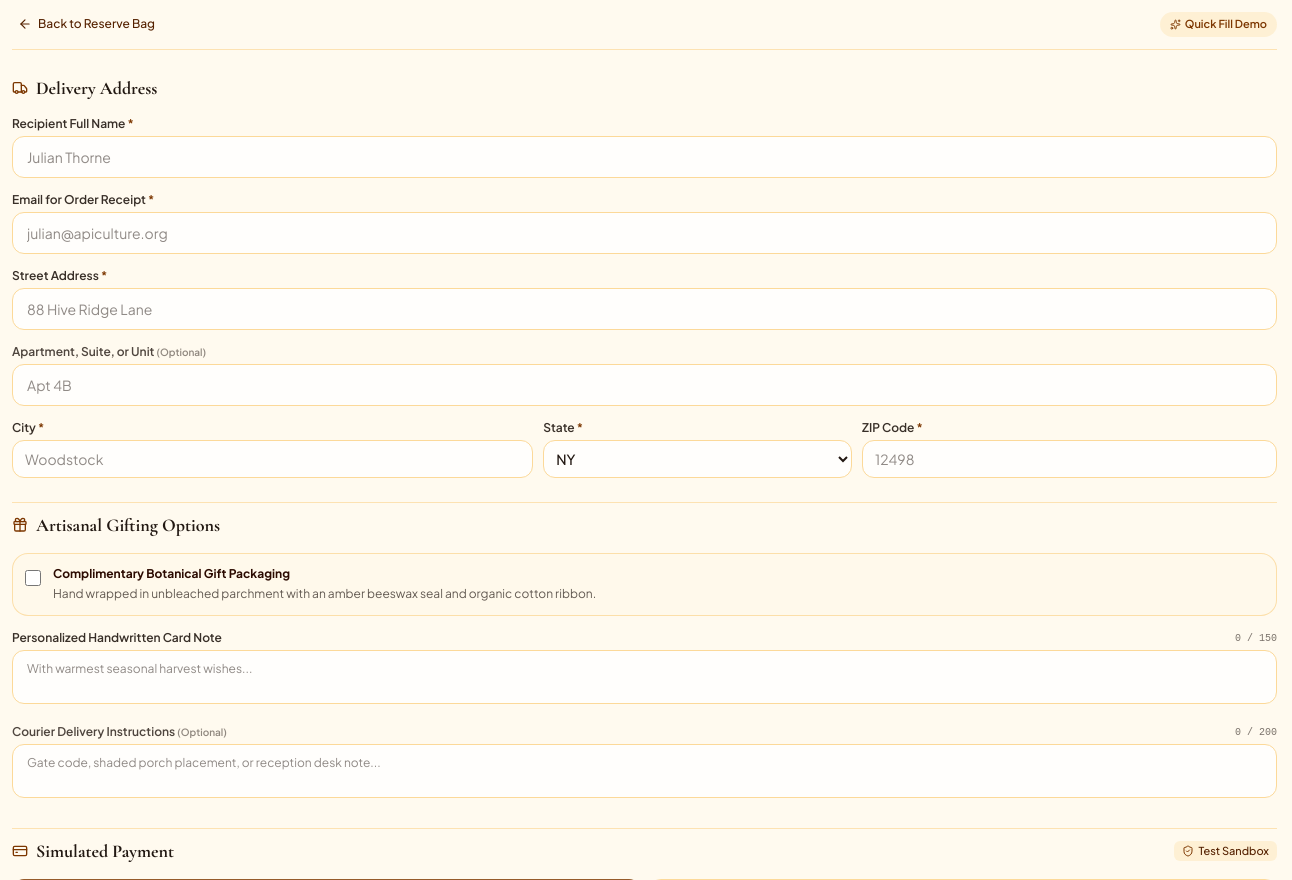
Test: CheckoutForm Component (satisfies AC-4, AC-5, AC-6, AC-7) › populates form fields cleanly with Quick Fill Demo button (AC-4, AC-6)
Click the button "Quick Fill Demo". click: (1218, 24)
box: [1160,12,1277,36]
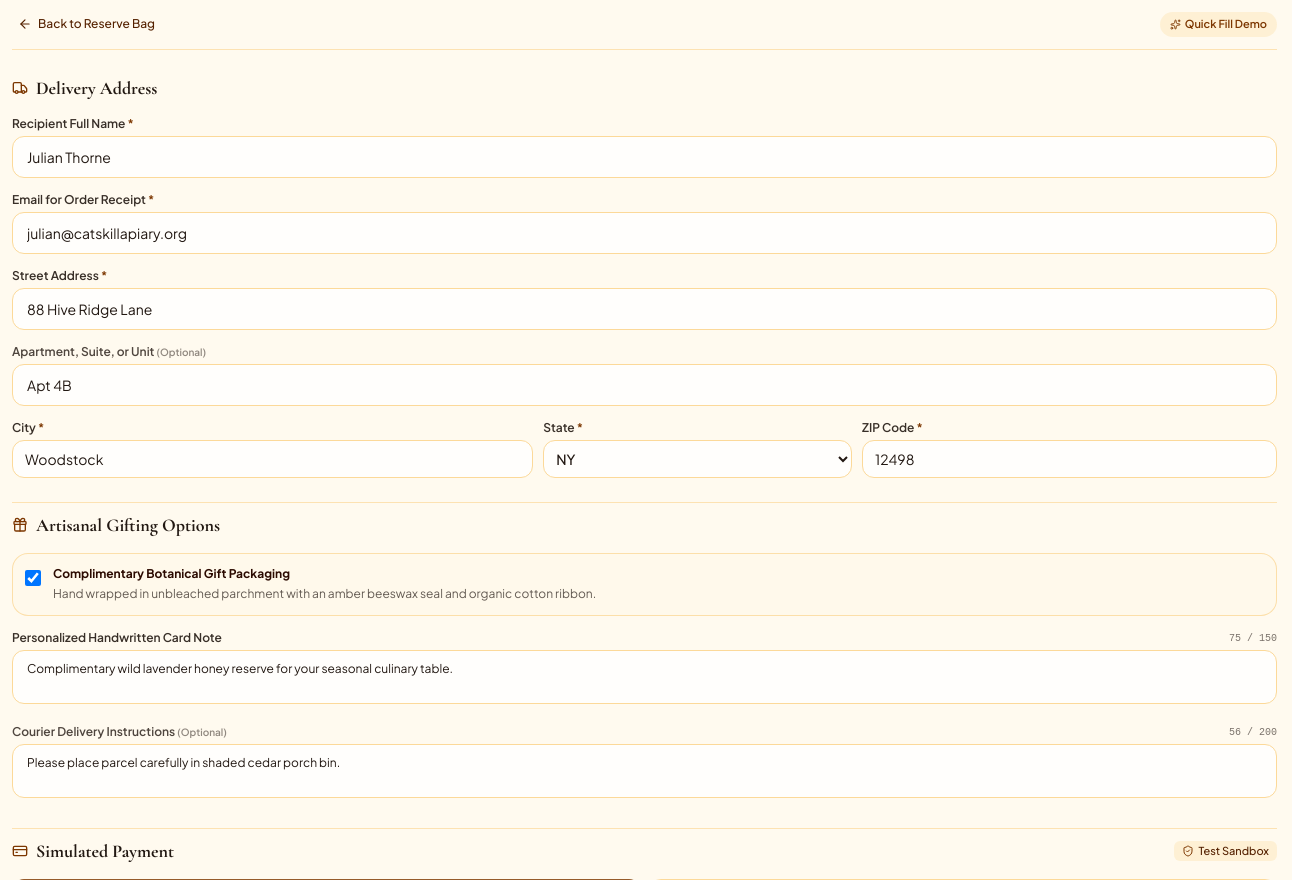
Expected: the field labelled "Recipient Full Name *" holds "Julian Thorne", [12,136,1277,178]
Expected: the field labelled "Email for Order Receipt *" holds "julian@catskillapiary.org", [12,212,1277,254]
Expected: the field labelled "Street Address *" holds "88 Hive Ridge Lane", [12,288,1277,330]
